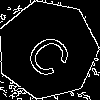C: (22, 24, 82, 82)
